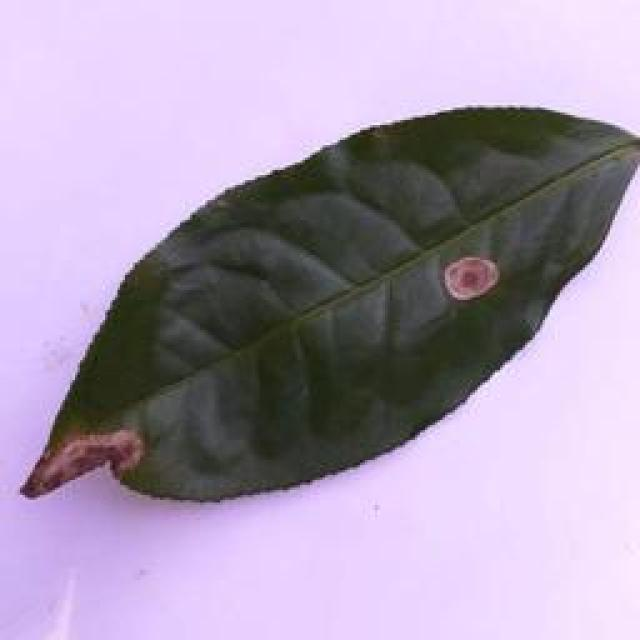Gray Blight: (25, 106, 640, 503)
